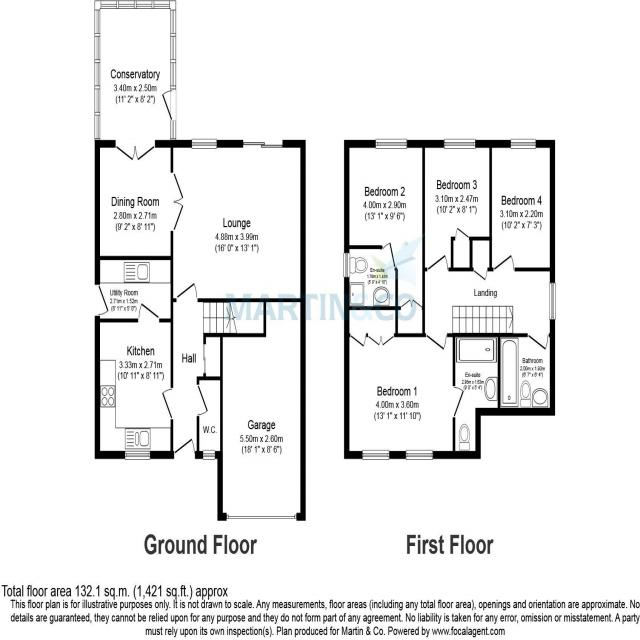DOOR: (379, 239, 397, 272), (426, 251, 450, 274), (173, 437, 196, 460), (424, 331, 448, 353), (94, 284, 110, 316), (138, 301, 160, 324), (176, 281, 199, 303), (526, 332, 550, 353), (452, 384, 466, 420), (161, 90, 177, 121), (493, 253, 516, 273), (161, 388, 174, 421)
ROOM: (169, 136, 309, 303), (342, 305, 465, 460), (343, 138, 426, 338), (92, 300, 175, 461), (93, 299, 175, 461), (92, 137, 187, 261), (421, 139, 493, 272), (488, 140, 556, 272)
SLIDING DOOR: (242, 140, 284, 148)
WINDOW: (374, 136, 409, 151), (196, 383, 209, 418), (443, 137, 477, 150), (405, 447, 434, 462), (361, 448, 390, 463), (190, 137, 219, 152), (547, 282, 557, 323), (510, 137, 537, 151), (124, 450, 150, 461), (342, 251, 351, 280), (169, 62, 177, 87), (94, 61, 101, 87), (170, 35, 177, 61), (170, 9, 177, 34), (94, 9, 101, 34), (94, 35, 101, 60), (94, 88, 101, 113), (94, 114, 101, 139), (136, 0, 153, 10), (153, 0, 170, 10), (202, 449, 216, 460), (170, 120, 177, 139)
